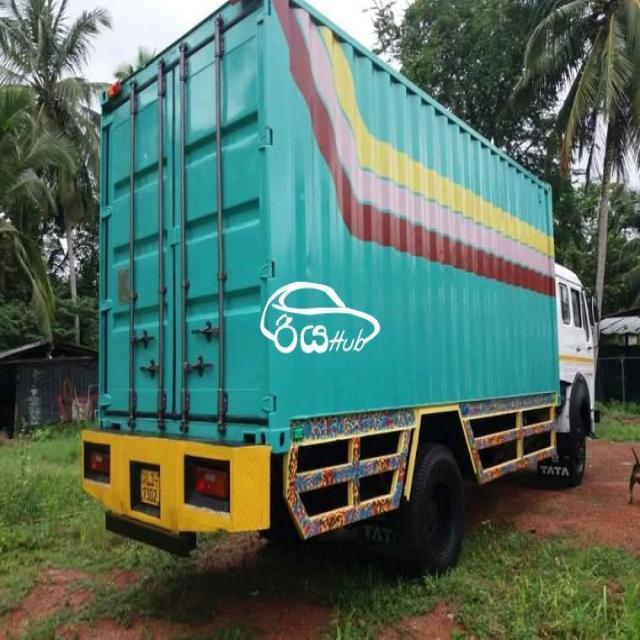truck: (82, 1, 601, 581)
